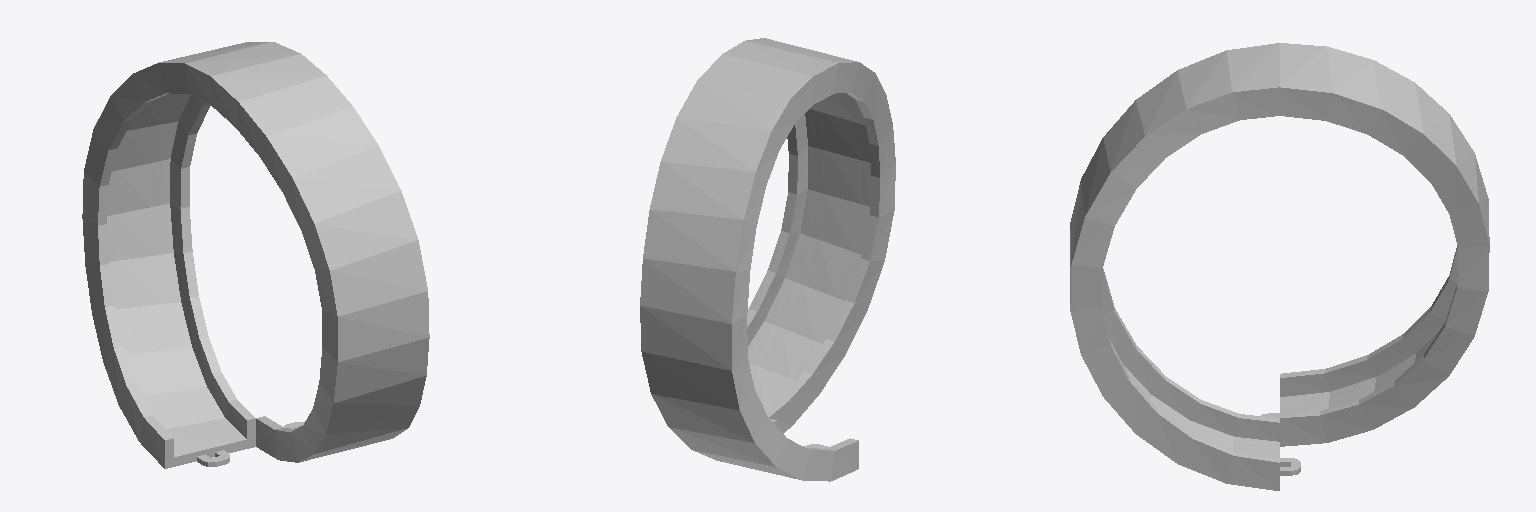
File: track-road-narrow-looping.obj
The picture shows the model from 3 angles: view 1: azimuth 30°, elevation 25°; view 2: azimuth 150°, elevation 25°; view 3: azimuth 270°, elevation 25°; orthographic projection.
Parts seen in each view (by area): view 1: track-road-narrow-looping; view 2: track-road-narrow-looping; view 3: track-road-narrow-looping.
Boxes of the visible parts, <box> form: track-road-narrow-looping: <box>82,42,429,468</box>; track-road-narrow-looping: <box>640,38,895,481</box>; track-road-narrow-looping: <box>1070,43,1489,490</box>.
Bounding box in the file's own units: 2 × 4 × 3.98.